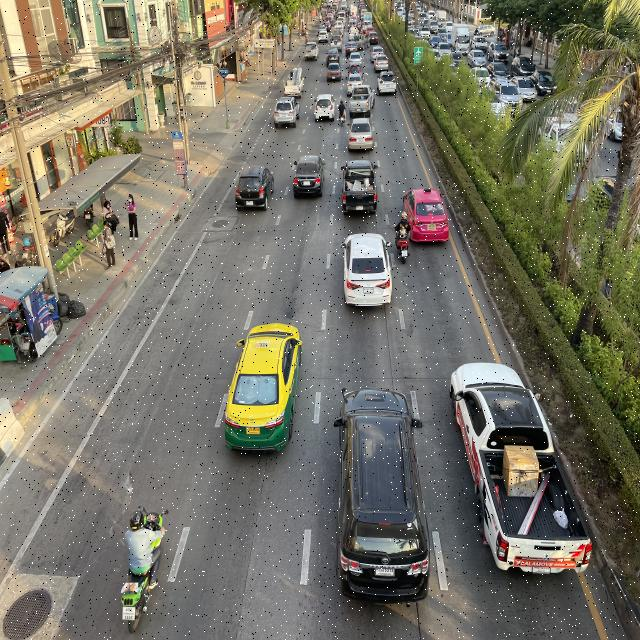bike: (115, 494, 171, 632), (392, 212, 412, 266), (336, 98, 348, 127)
car: (447, 360, 593, 583), (333, 381, 430, 605), (220, 318, 306, 458), (341, 230, 393, 308), (402, 186, 451, 246), (339, 158, 379, 216), (234, 164, 275, 212), (292, 154, 326, 198), (348, 117, 376, 151), (348, 84, 376, 118), (273, 95, 300, 129), (313, 93, 336, 122)
truck: (282, 67, 305, 100)
